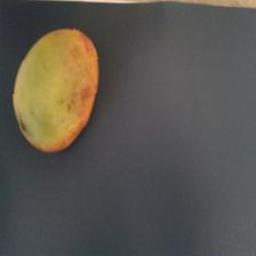Mango Semifresh: (6, 9, 108, 155)
